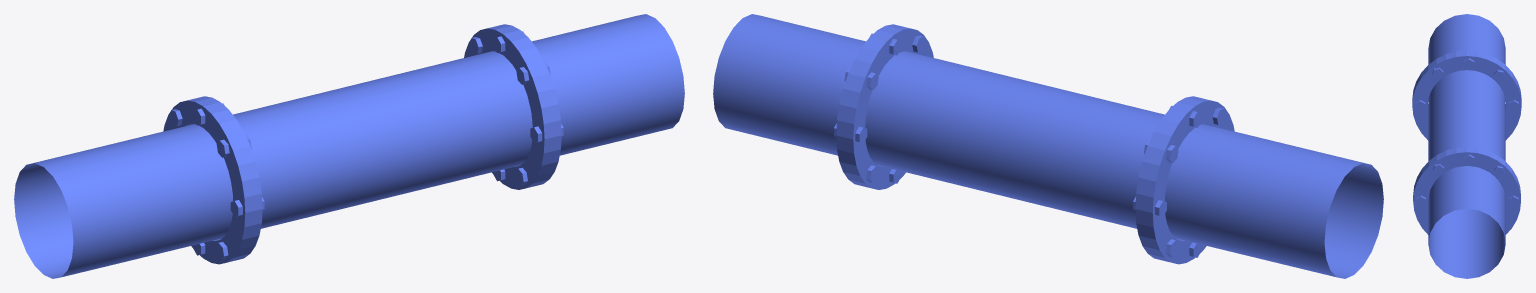
File: pipeline.gltf
3 views of the same model, side by side, from view 1: azimuth 30°, elevation 25°; view 2: azimuth 150°, elevation 25°; view 3: azimuth 270°, elevation 25° (orthographic). The views are drawn at different scales.
Visible parts, largest first — view 1: BézierCurve, Circle, Circle.001; view 2: BézierCurve, Circle, Circle.001; view 3: BézierCurve, Circle, Circle.001.
Part boxes in pixels (x1,y1,x2,y2): BézierCurve: (14,14,684,278); Circle: (163,96,264,264); Circle.001: (464,24,563,189); BézierCurve: (713,14,1383,278); Circle: (1133,96,1234,264); Circle.001: (834,24,933,189); BézierCurve: (1428,14,1505,278); Circle: (1412,50,1521,140); Circle.001: (1413,146,1520,234).
Bounding box in the file's own units: 1.3 × 0.3098 × 0.3098.
